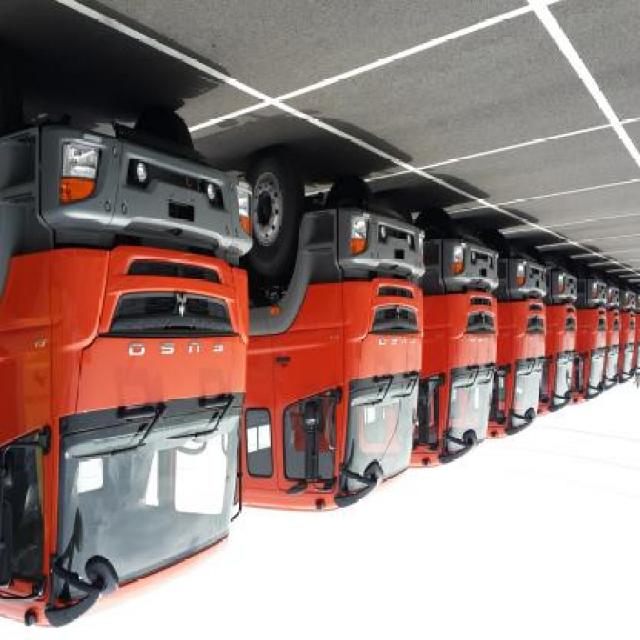truck: (1, 93, 255, 636), (234, 158, 428, 516), (421, 212, 507, 468), (498, 252, 558, 446), (544, 266, 583, 429)
